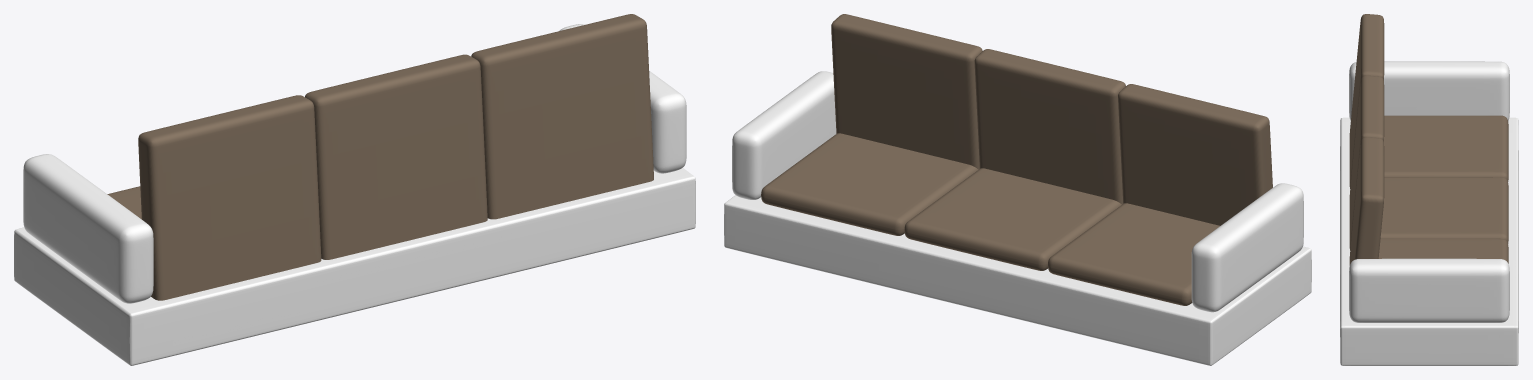
3 views of the same model, side by side, from view 1: azimuth 30°, elevation 25°; view 2: azimuth 150°, elevation 25°; view 3: azimuth 270°, elevation 25° (orthographic). The views are drawn at different scales.
Parts seen in each view (by area): view 1: MainCouch_Base, MainCouch_BackCushion_1, MainCouch_BackCushion_3, MainCouch_BackCushion_2, MainCouch_Armrest_Left, MainCouch_Armrest_Right, MainCouch_SeatCushion_1; view 2: MainCouch_Base, MainCouch_BackCushion_2, MainCouch_BackCushion_3, MainCouch_BackCushion_1, MainCouch_SeatCushion_3, MainCouch_SeatCushion_2, MainCouch_SeatCushion_1, MainCouch_Armrest_Left, MainCouch_Armrest_Right; view 3: MainCouch_Base, MainCouch_Armrest_Right, MainCouch_SeatCushion_2, MainCouch_SeatCushion_1, MainCouch_Armrest_Left, MainCouch_BackCushion_3, MainCouch_SeatCushion_3, MainCouch_BackCushion_1, MainCouch_BackCushion_2.
Part boxes in pixels (x1=…): MainCouch_Base: x1=14, y1=168, x2=695, y2=365; MainCouch_BackCushion_1: x1=138, y1=95, x2=321, y2=300; MainCouch_BackCushion_3: x1=471, y1=14, x2=653, y2=219; MainCouch_BackCushion_2: x1=305, y1=54, x2=487, y2=259; MainCouch_Armrest_Left: x1=23, y1=154, x2=153, y2=303; MainCouch_Armrest_Right: x1=559, y1=24, x2=686, y2=173; MainCouch_SeatCushion_1: x1=107, y1=186, x2=141, y2=219; MainCouch_Base: x1=724, y1=195, x2=1311, y2=365; MainCouch_BackCushion_2: x1=974, y1=49, x2=1125, y2=204; MainCouch_BackCushion_3: x1=831, y1=14, x2=982, y2=169; MainCouch_BackCushion_1: x1=1118, y1=84, x2=1272, y2=225; MainCouch_SeatCushion_3: x1=761, y1=133, x2=978, y2=235; MainCouch_SeatCushion_2: x1=904, y1=168, x2=1121, y2=270; MainCouch_SeatCushion_1: x1=1048, y1=203, x2=1219, y2=305; MainCouch_Armrest_Left: x1=1191, y1=183, x2=1303, y2=312; MainCouch_Armrest_Right: x1=732, y1=71, x2=836, y2=199; MainCouch_Base: x1=1340, y1=117, x2=1518, y2=365; MainCouch_Armrest_Right: x1=1349, y1=258, x2=1509, y2=322; MainCouch_SeatCushion_2: x1=1380, y1=177, x2=1508, y2=243; MainCouch_SeatCushion_1: x1=1384, y1=115, x2=1508, y2=181; MainCouch_Armrest_Left: x1=1349, y1=61, x2=1509, y2=120; MainCouch_BackCushion_3: x1=1349, y1=137, x2=1384, y2=265; MainCouch_SeatCushion_3: x1=1378, y1=238, x2=1508, y2=263; MainCouch_BackCushion_1: x1=1349, y1=14, x2=1384, y2=188; MainCouch_BackCushion_2: x1=1349, y1=75, x2=1384, y2=250.
Size of the model in its own units: 5 by 1.75 by 1.8.
